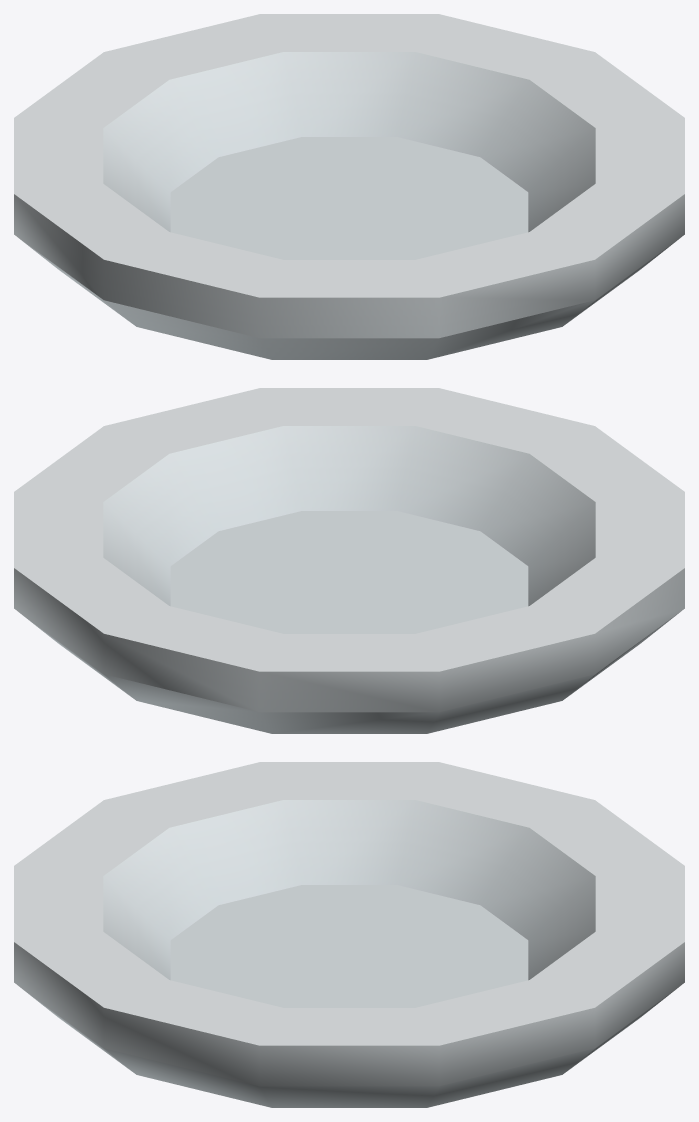
File: plate_small.glb
3 renders of one model, top to bottom at view 1: azimuth 30°, elevation 25°; view 2: azimuth 150°, elevation 25°; view 3: azimuth 270°, elevation 25°, orthographic.
Visible parts, largest first — view 1: plate_small; view 2: plate_small; view 3: plate_small.
Part boxes in pixels (x1,y1,x2,y2): plate_small: (14, 14, 684, 359); plate_small: (14, 388, 684, 733); plate_small: (14, 762, 684, 1107).
Bounding box in the file's own units: 0.75 × 0.1 × 0.75.
1 material, 1 textured.
